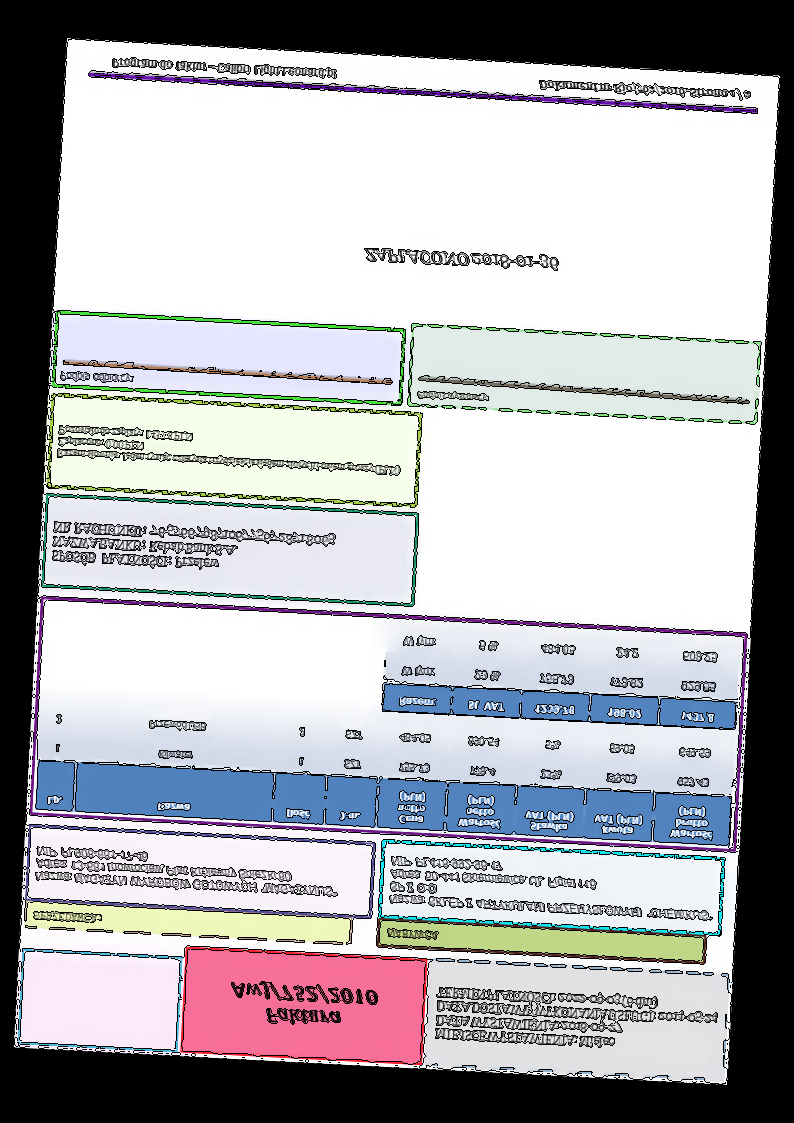Table: (34, 697, 736, 847), (380, 620, 742, 732)
TextBox: (385, 853, 717, 925), (433, 982, 721, 1058), (55, 422, 404, 478), (50, 516, 336, 583), (33, 843, 342, 901), (226, 977, 383, 1033), (109, 54, 339, 84), (537, 75, 754, 106), (360, 244, 565, 276), (58, 369, 136, 390), (30, 908, 104, 929), (413, 388, 489, 407), (383, 926, 442, 945)
